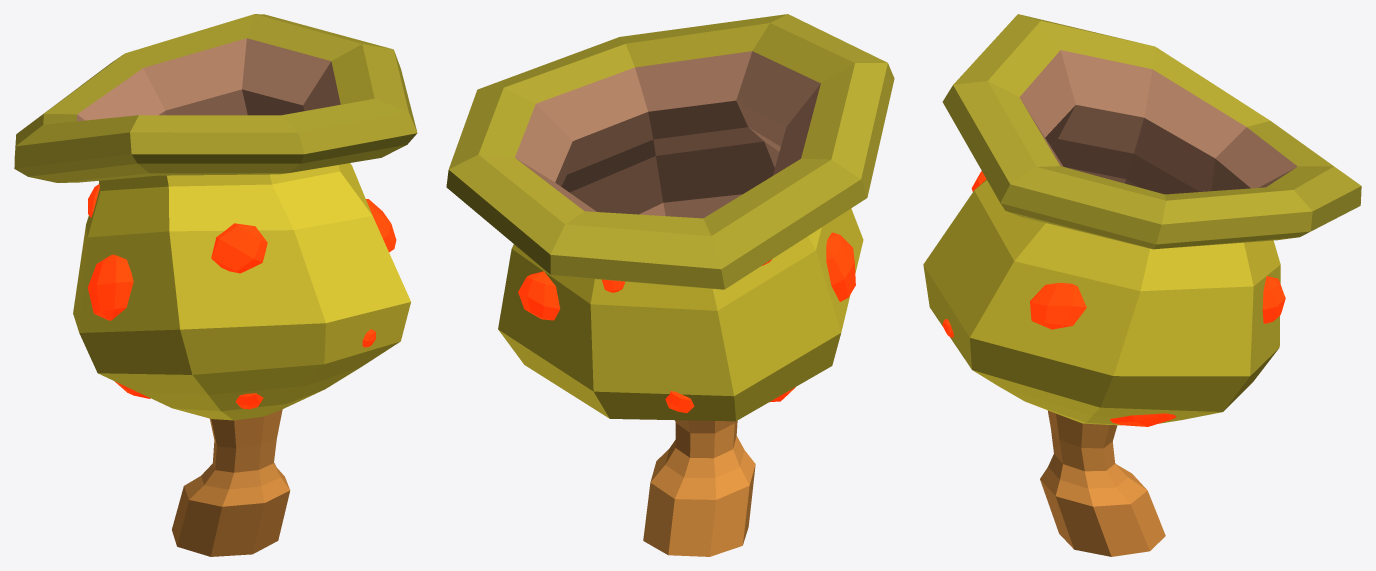
File: Mushroom_02_Var_01.fbx
The picture shows the model from 3 angles, left to right: view 1: azimuth 30°, elevation 25°; view 2: azimuth 150°, elevation 25°; view 3: azimuth 270°, elevation 25°; orthographic projection. The views are drawn at different scales.
Parts seen in each view (by area): view 1: Mushroom_02_Var_01; view 2: Mushroom_02_Var_01; view 3: Mushroom_02_Var_01.
Part boxes in pixels (left/top/right/bottom): Mushroom_02_Var_01: left=14, top=14, right=417, bottom=556; Mushroom_02_Var_01: left=446, top=14, right=894, bottom=556; Mushroom_02_Var_01: left=923, top=14, right=1361, bottom=556.
Bounding box in the file's own units: 0.9517 × 1.1 × 0.9372.
